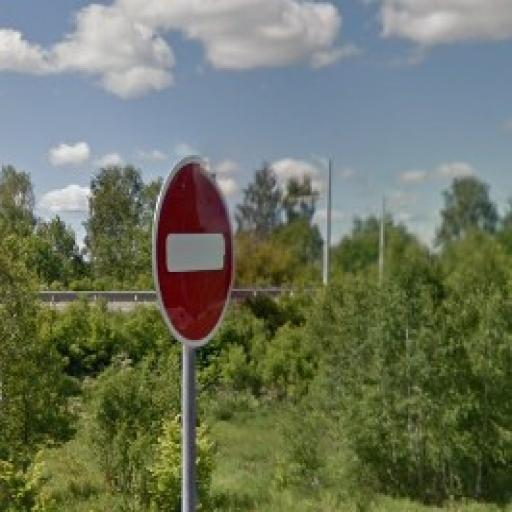traffic_sign: (151, 156, 238, 350)
